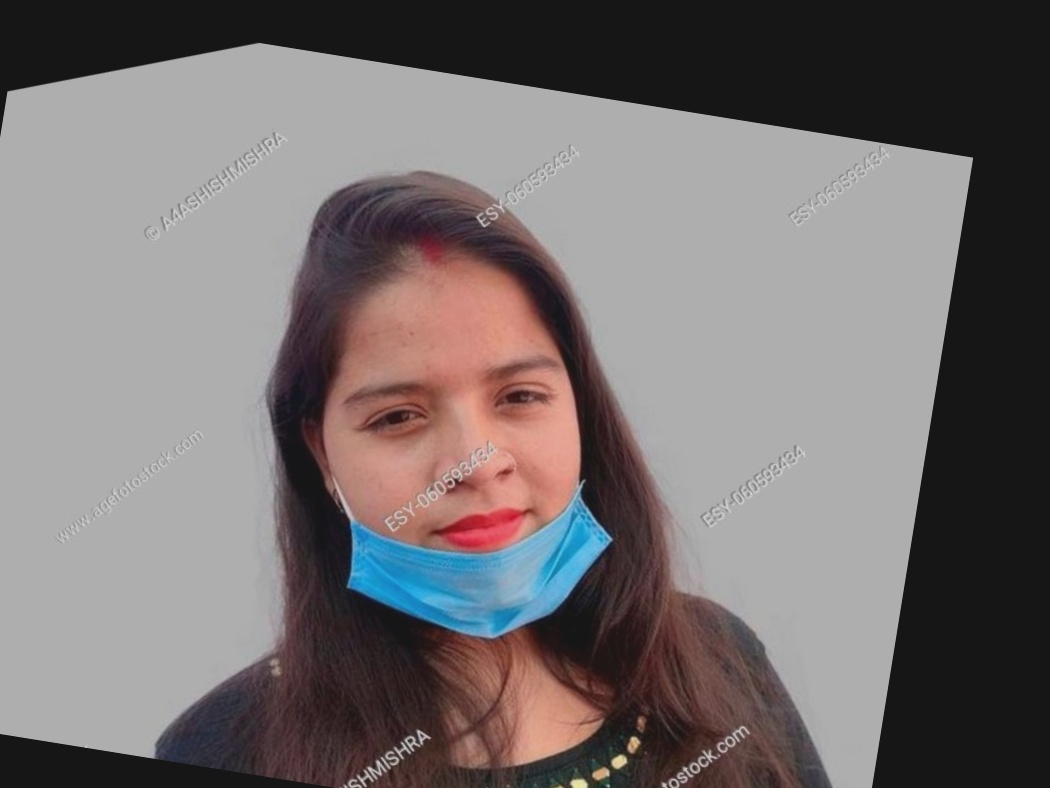mask_weared_incorrect: (289, 197, 630, 654)
